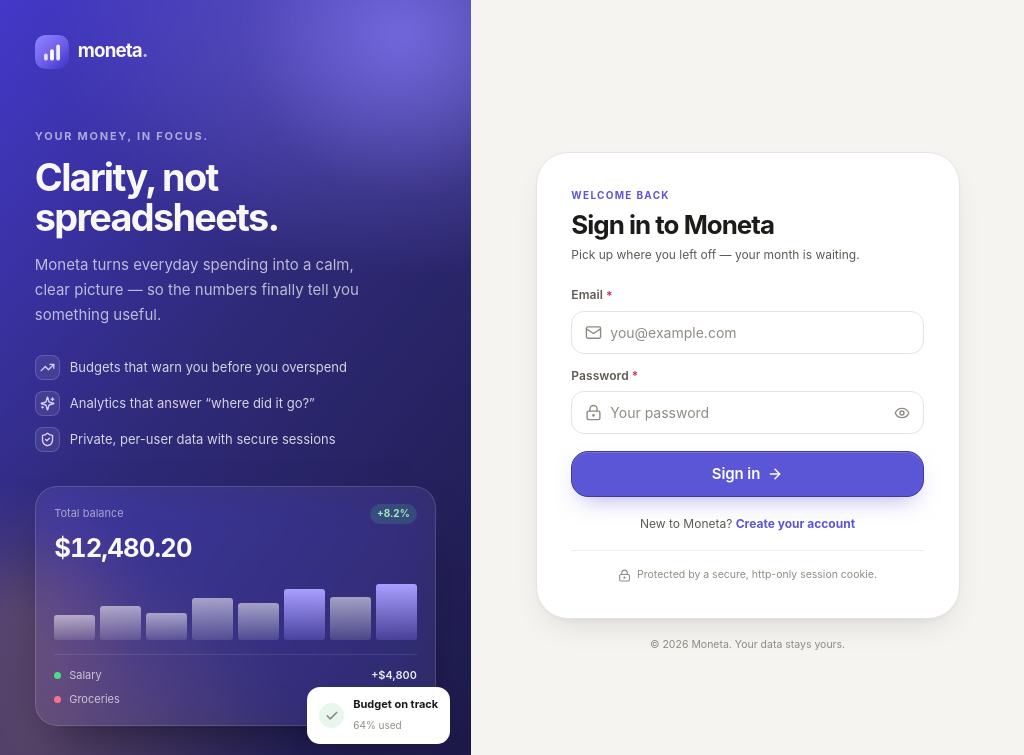
Test: LoginPage › blocks submission and shows validation when fields are empty
What coordinates should you click on to do the following:
click the button "Sign in"
I would click on:
 (748, 474)
Its box is [571,451,924,497].
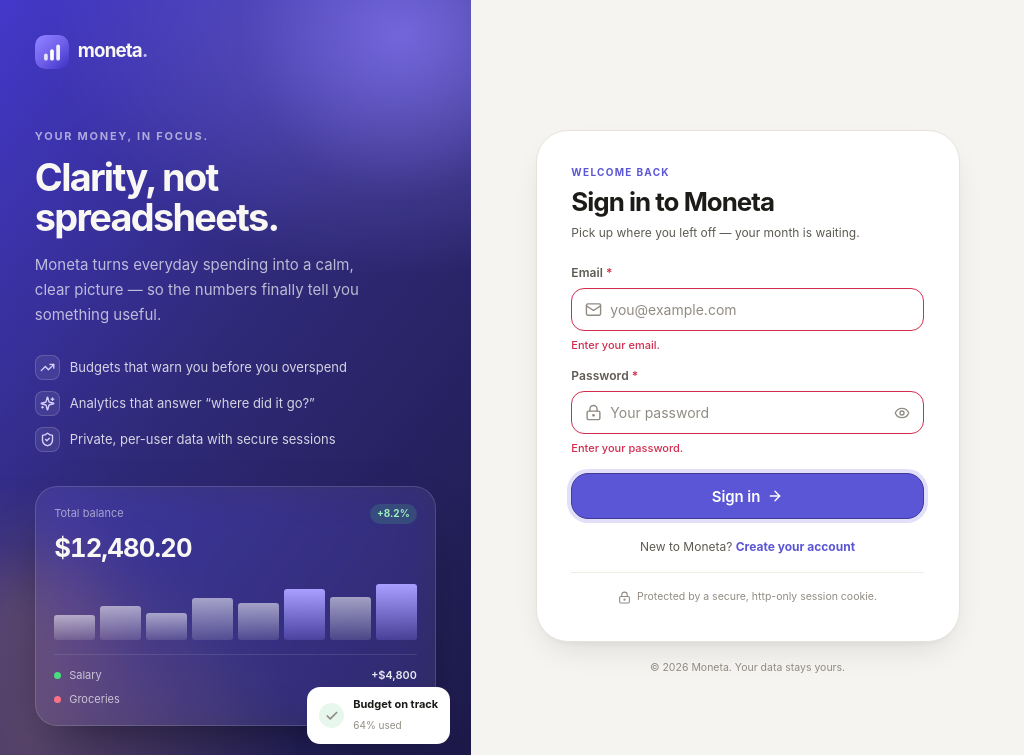
Result: the text "Enter your email." is shown at [571,338,660,352]
Result: the text "Enter your password." is shown at [571,441,683,455]
